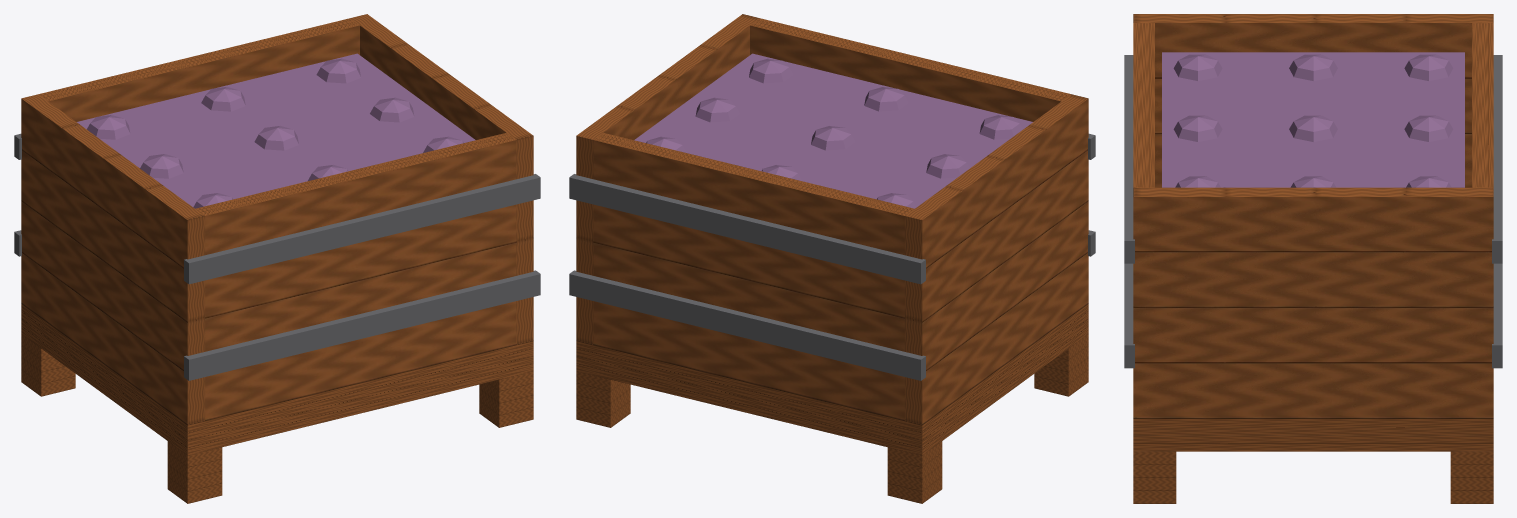
File: harvest-bin.glb
3 views of the same model, side by side, from view 1: azimuth 30°, elevation 25°; view 2: azimuth 150°, elevation 25°; view 3: azimuth 270°, elevation 25° (orthographic). The views are drawn at different scales.
Visible parts, largest first — view 1: harvest-bin-timber, harvest-bin-grape, harvest-bin-dark; view 2: harvest-bin-timber, harvest-bin-grape, harvest-bin-dark; view 3: harvest-bin-timber, harvest-bin-grape, harvest-bin-dark.
Part boxes in pixels (box(x1,y1,x2,y2)): harvest-bin-timber: box(21, 14, 533, 503); harvest-bin-grape: box(77, 53, 475, 208); harvest-bin-dark: box(14, 133, 540, 380); harvest-bin-timber: box(576, 14, 1088, 503); harvest-bin-grape: box(634, 53, 1032, 208); harvest-bin-dark: box(569, 133, 1095, 380); harvest-bin-timber: box(1133, 14, 1493, 503); harvest-bin-grape: box(1162, 52, 1464, 187); harvest-bin-dark: box(1124, 55, 1502, 368).
Bounding box in the file's own units: 1.22 × 0.94 × 1.05.
Materials: 3 (1 with a texture image).
